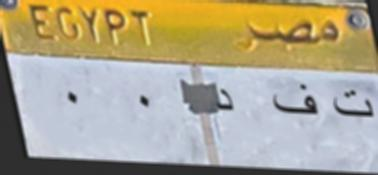0: (52, 87, 88, 115), (131, 88, 162, 112)
daal: (212, 82, 238, 114)
faa: (268, 81, 318, 118)
taa: (326, 90, 377, 128)
